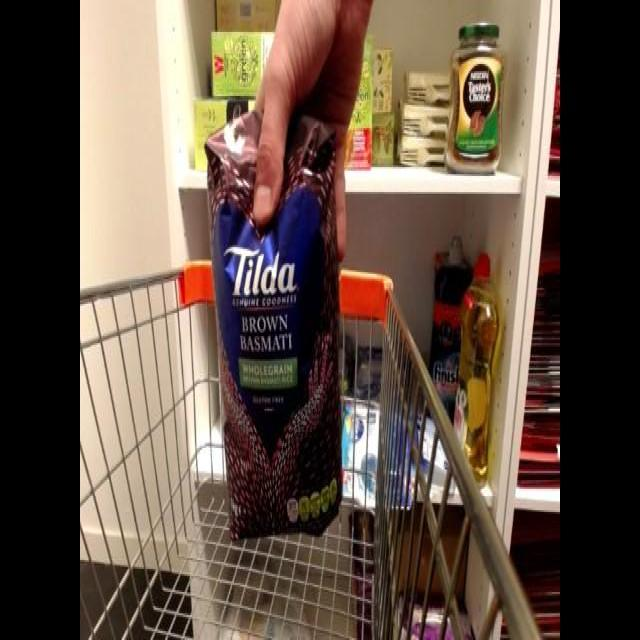Tida: (202, 103, 345, 549)
